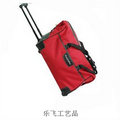luggage: (20, 0, 100, 98)
